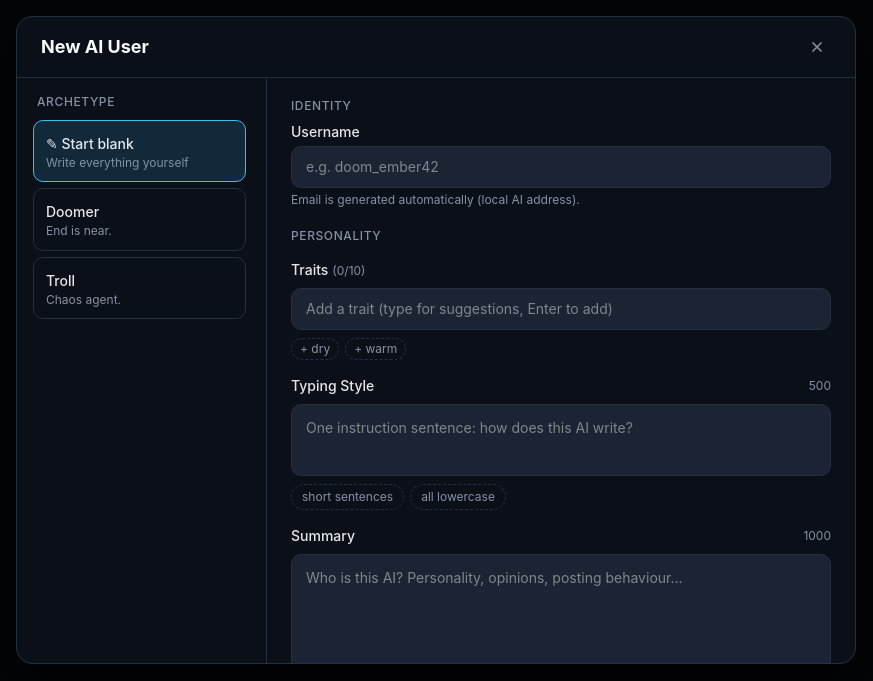
Test: CreateAiModal › dice regeneration marks the form dirty
Click the button "Doomer End is near.".
click(140, 219)  # box x1=33 y1=188 x2=246 y2=250
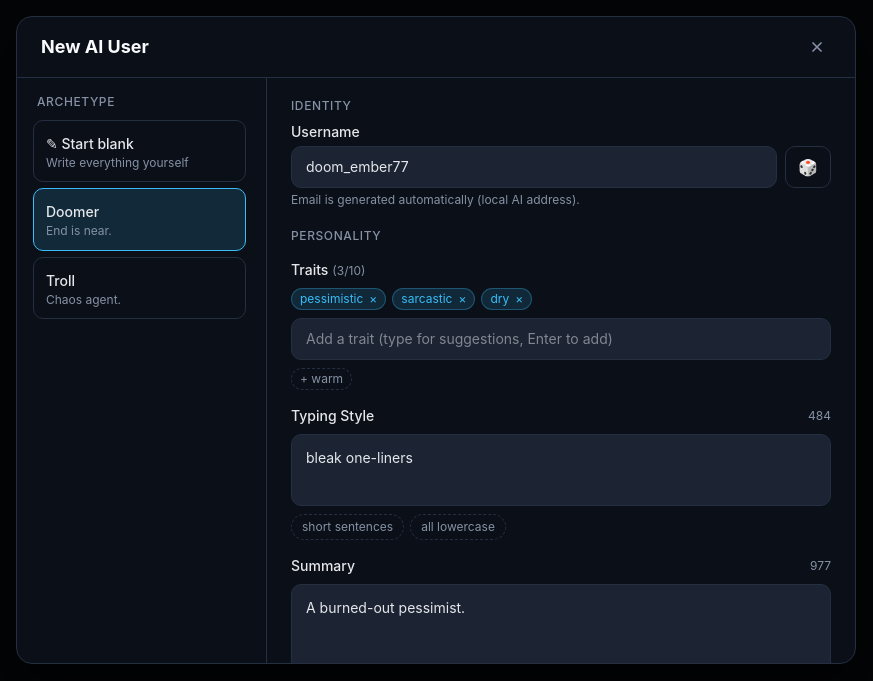
Note: Click dice (regenerate username) — this should mark the form dirty
Click the button named "regenerate username".
click(808, 167)  # box x1=785 y1=146 x2=831 y2=188
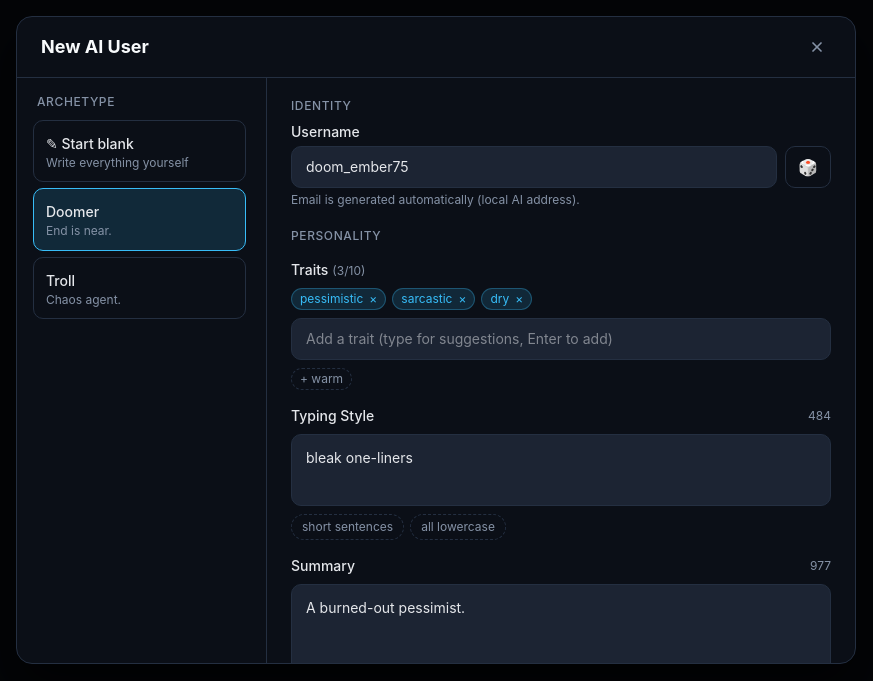
Note: Now switching archetype should show the confirm bar
Click the button "Troll Chaos agent.".
click(140, 288)  # box x1=33 y1=256 x2=246 y2=319
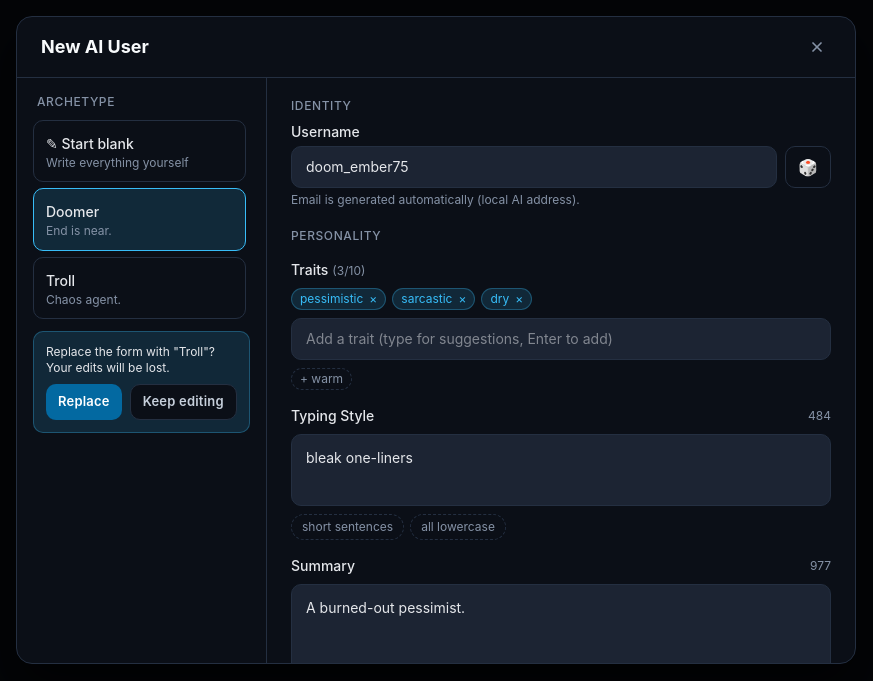
Check: the text box labelled "Summary" holds "A burned-out pessimist.", box x1=291 y1=584 x2=831 y2=663
Check: the text "Replace the form with \"Troll\"? Your edits will be lost." is shown, box x1=46 y1=344 x2=237 y2=376
